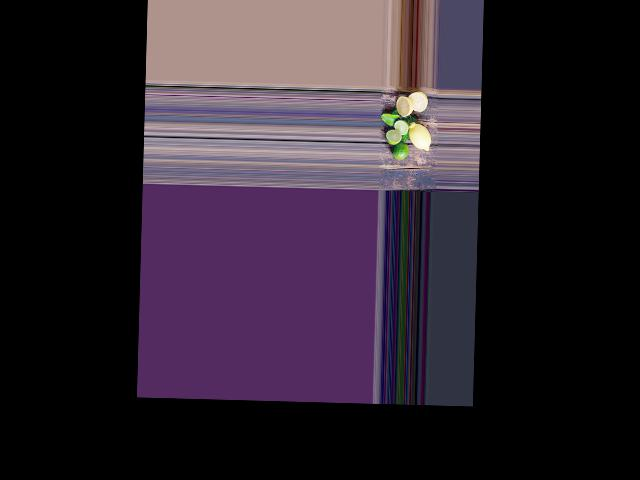lemon: (405, 121, 432, 152)
